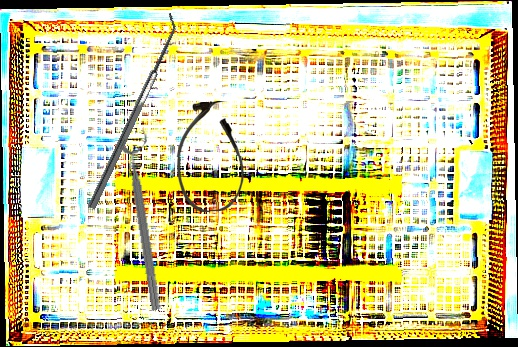Cannula: (175, 100, 245, 213)
Fixation Ring: (118, 128, 176, 312)
Spatula Surgical: (80, 12, 184, 210)
